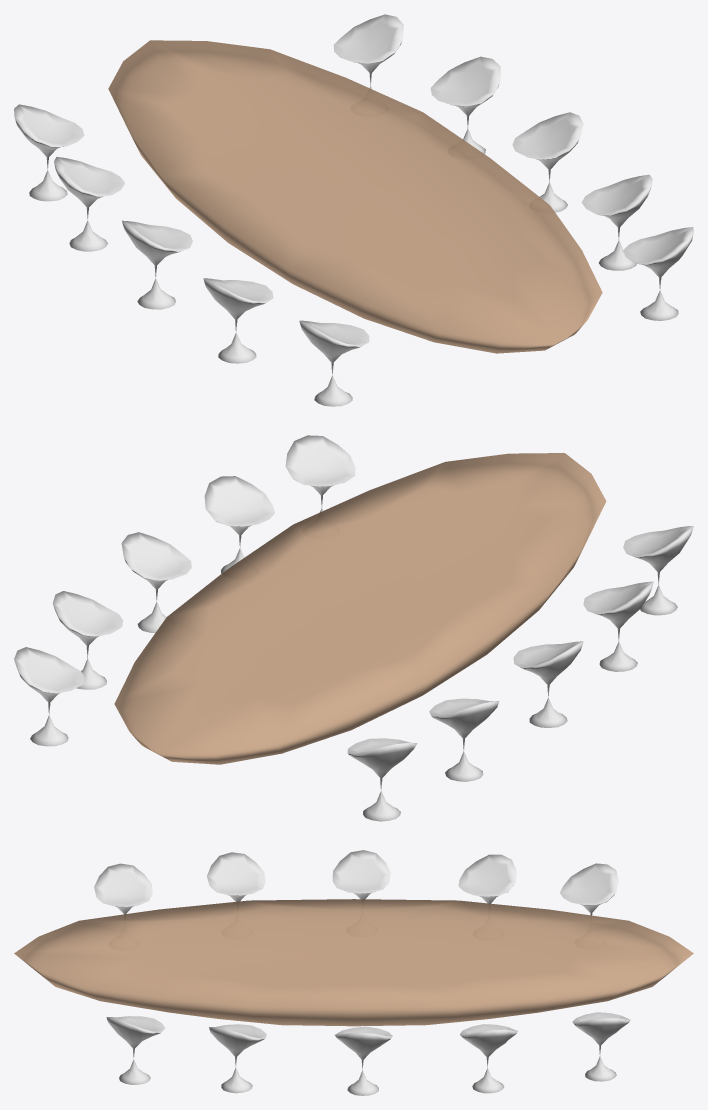
Rendered from FullOffice3.fbx.
3 views of the same model, one above another, from view 1: azimuth 30°, elevation 25°; view 2: azimuth 150°, elevation 25°; view 3: azimuth 270°, elevation 25° (orthographic). The views are drawn at different scales.
Visible parts, largest first — view 1: pCylinder1, pasted__pasted__pasted__pCylinder1 (×3), pasted__pasted__pasted__pasted__pCylinder1 (×2), pasted__pasted__pCylinder1 (×2), pasted__pasted__pCylinder2, pasted__pCylinder1, pasted__pasted__pasted__pCylinder2; view 2: pCylinder1, pasted__pasted__pasted__pCylinder1 (×3), pasted__pasted__pCylinder1 (×2), pasted__pasted__pasted__pasted__pCylinder1 (×2), pasted__pCylinder1, pasted__pasted__pasted__pCylinder2, pasted__pasted__pCylinder2; view 3: pCylinder1, pasted__pasted__pasted__pCylinder1 (×3), pasted__pasted__pasted__pasted__pCylinder1 (×2), pasted__pasted__pCylinder1 (×2), pasted__pasted__pasted__pCylinder2, pasted__pasted__pCylinder2, pasted__pCylinder1.
Part boxes in pixels (x1,y1,x2,y2): pCylinder1: (108, 40, 602, 353); pasted__pasted__pasted__pCylinder1 (×3): (203, 174, 652, 406); pasted__pasted__pasted__pasted__pCylinder1 (×2): (14, 104, 124, 251); pasted__pasted__pCylinder1 (×2): (122, 14, 403, 309); pasted__pasted__pCylinder2: (430, 56, 500, 153); pasted__pCylinder1: (512, 112, 583, 212); pasted__pasted__pasted__pCylinder2: (623, 227, 693, 320); pCylinder1: (114, 453, 606, 764); pasted__pasted__pasted__pCylinder1 (×3): (204, 476, 693, 671); pasted__pasted__pCylinder1 (×2): (14, 641, 583, 746); pasted__pasted__pasted__pasted__pCylinder1 (×2): (347, 698, 499, 821); pasted__pCylinder1: (121, 532, 191, 633); pasted__pasted__pasted__pCylinder2: (285, 435, 355, 512); pasted__pasted__pCylinder2: (52, 591, 123, 689); pCylinder1: (14, 899, 693, 1026); pasted__pasted__pasted__pCylinder1 (×3): (94, 852, 266, 1093); pasted__pasted__pasted__pasted__pCylinder1 (×2): (458, 854, 618, 915); pasted__pasted__pCylinder1 (×2): (332, 850, 630, 1081); pasted__pasted__pasted__pCylinder2: (106, 1016, 164, 1084); pasted__pasted__pCylinder2: (460, 1024, 517, 1093); pasted__pCylinder1: (335, 1026, 392, 1095).
Bounding box in the file's own units: 21.13 × 3.75 × 33.24.
